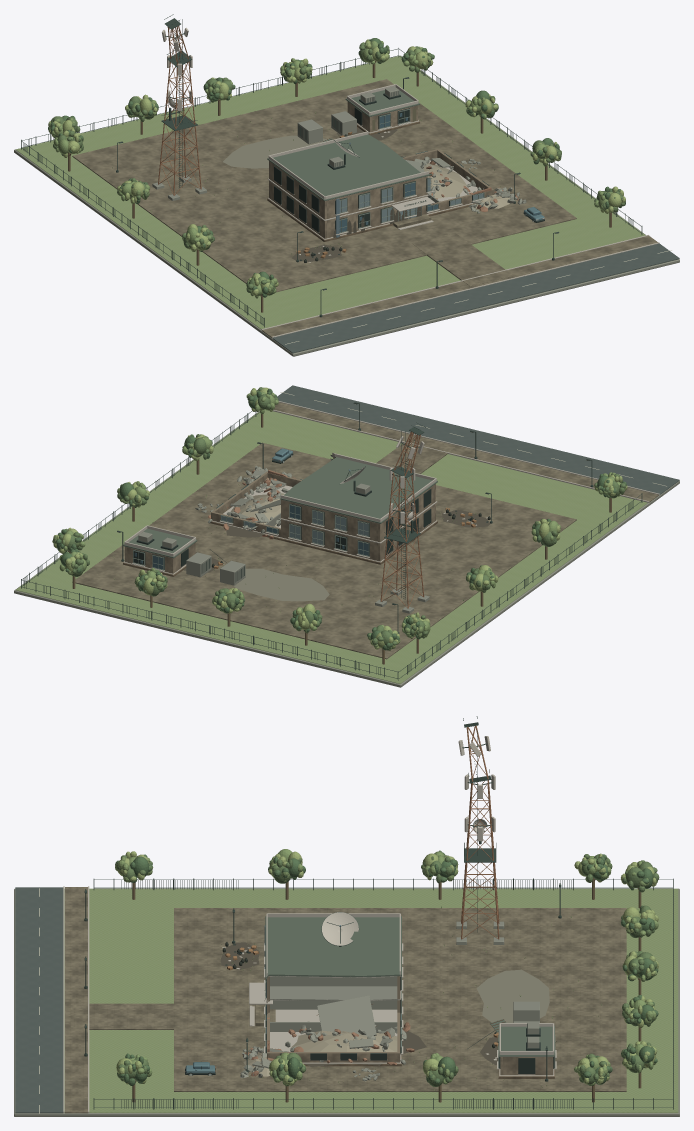
The model's file is communications-abandoned.glb.
3 renders of one model, top to bottom at view 1: azimuth 30°, elevation 25°; view 2: azimuth 150°, elevation 25°; view 3: azimuth 270°, elevation 25°, orthographic. The views are drawn at different scales.
Parts seen in each view (by area): view 1: 材质批次_plaza_paving, 材质批次_grass, 材质批次_asphalt, 材质批次_poi_service_concrete, 材质批次_sage_metal_roof, 材质批次_warm_cream_trim, 材质批次_limestone, 材质批次_street_metal, 材质批次_leaf_2, 材质批次_leaf_0, 材质批次_leaf_1, 材质批次_communications_tower (+10 smaller); view 2: 材质批次_plaza_paving, 材质批次_grass, 材质批次_asphalt, 材质批次_poi_service_concrete, 材质批次_sage_metal_roof, 材质批次_street_metal, 材质批次_limestone, 材质批次_warm_cream_trim, 材质批次_leaf_1, 材质批次_leaf_2, 材质批次_communications_tower, 材质批次_leaf_0 (+10 smaller); view 3: 材质批次_plaza_paving, 材质批次_grass, 材质批次_poi_service_concrete, 材质批次_asphalt, 材质批次_sage_metal_roof, 材质批次_warm_cream_trim, 材质批次_street_metal, 材质批次_leaf_1, 材质批次_leaf_3, 材质批次_leaf_2, 材质批次_leaf_0, 材质批次_abandoned_dust (+7 smaller).
Part boxes in pixels (box(x1,y1,x2,y2)): 材质批次_plaza_paving: box(72, 79, 657, 337); 材质批次_grass: box(15, 55, 645, 329); 材质批次_asphalt: box(272, 243, 679, 353); 材质批次_poi_service_concrete: box(14, 56, 679, 356); 材质批次_sage_metal_roof: box(267, 90, 431, 201); 材质批次_warm_cream_trim: box(162, 27, 659, 337); 材质批次_limestone: box(269, 101, 494, 238); 材质批次_street_metal: box(21, 14, 642, 327); 材质批次_leaf_2: box(48, 39, 625, 295); 材质批次_leaf_0: box(48, 40, 612, 298); 材质批次_leaf_1: box(48, 43, 625, 295); 材质批次_communications_tower: box(158, 26, 201, 195); 材质批次_plaza_paving: box(72, 402, 658, 659); 材质批次_grass: box(16, 409, 647, 683); 材质批次_asphalt: box(277, 385, 679, 495); 材质批次_poi_service_concrete: box(14, 411, 679, 687); 材质批次_sage_metal_roof: box(123, 455, 437, 558); 材质批次_street_metal: box(21, 402, 642, 680); 材质批次_limestone: box(125, 457, 435, 573); 材质批次_warm_cream_trim: box(124, 401, 659, 574); 材质批次_leaf_1: box(52, 387, 626, 649); 材质批次_leaf_2: box(52, 387, 627, 649); 材质批次_communications_tower: box(380, 431, 424, 608); 材质批次_leaf_0: box(53, 391, 623, 650); 材质批次_plaza_paving: box(65, 887, 626, 1113); 材质批次_grass: box(64, 888, 678, 1112); 材质批次_poi_service_concrete: box(14, 888, 679, 1116); 材质批次_asphalt: box(15, 887, 63, 1113); 材质批次_sage_metal_roof: box(265, 916, 554, 1056); 材质批次_warm_cream_trim: box(63, 736, 556, 1112); 材质批次_street_metal: box(84, 716, 673, 1109); 材质批次_leaf_1: box(116, 854, 659, 1090); 材质批次_leaf_3: box(115, 850, 658, 1085); 材质批次_leaf_2: box(116, 851, 658, 1090); 材质批次_leaf_0: box(115, 849, 658, 1086); 材质批次_abandoned_dust: box(476, 969, 549, 1022).
Bounding box in the file's own units: 80.5 × 36.02 × 100.
34 materials, 5 textured.
